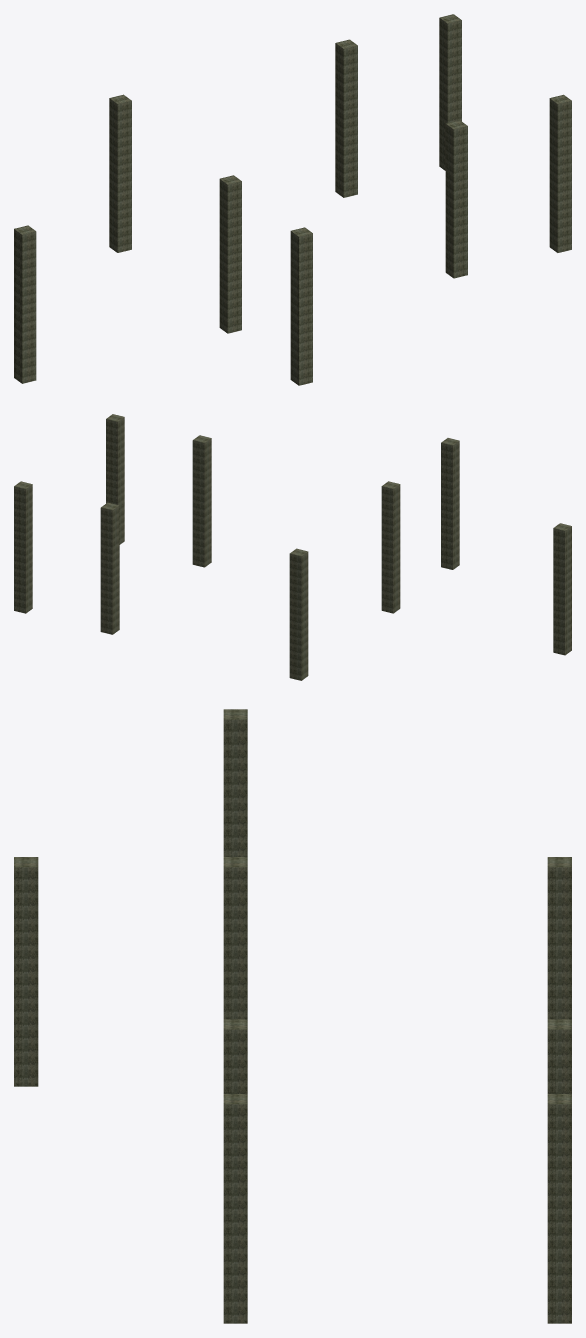
The picture shows the model from 3 angles, top to bottom: view 1: azimuth 30°, elevation 25°; view 2: azimuth 150°, elevation 25°; view 3: azimuth 270°, elevation 25°; orthographic projection. The views are drawn at different scales.
Visible parts, largest first — view 1: Columns_Rectangular 300 x 300 mm [645681]001, Columns_Rectangular 300 x 300 mm [646032]001, Columns_Rectangular 300 x 300 mm [645483]001, Columns_Rectangular 300 x 300 mm [645923]001, Columns_Rectangular 300 x 300 mm [646252]001, Columns_Rectangular 300 x 300 mm [645400]001, Columns_Rectangular 300 x 300 mm [646169]001, Columns_Rectangular 300 x 300 mm [645610]001; view 2: Columns_Rectangular 300 x 300 mm [645400]001, Columns_Rectangular 300 x 300 mm [645923]001, Columns_Rectangular 300 x 300 mm [646032]001, Columns_Rectangular 300 x 300 mm [645483]001, Columns_Rectangular 300 x 300 mm [645610]001, Columns_Rectangular 300 x 300 mm [645681]001, Columns_Rectangular 300 x 300 mm [646252]001, Columns_Rectangular 300 x 300 mm [646169]001; view 3: Columns_Rectangular 300 x 300 mm [645610]001, Columns_Rectangular 300 x 300 mm [646169]001, Columns_Rectangular 300 x 300 mm [646252]001, Columns_Rectangular 300 x 300 mm [645400]001, Columns_Rectangular 300 x 300 mm [645923]001, Columns_Rectangular 300 x 300 mm [645681]001, Columns_Rectangular 300 x 300 mm [645483]001, Columns_Rectangular 300 x 300 mm [646032]001.
Boxes of the visible parts, x1,y1,x2,y2 form: Columns_Rectangular 300 x 300 mm [645681]001: (14, 225, 36, 383); Columns_Rectangular 300 x 300 mm [646032]001: (445, 120, 467, 278); Columns_Rectangular 300 x 300 mm [645483]001: (335, 39, 357, 197); Columns_Rectangular 300 x 300 mm [645923]001: (219, 175, 241, 333); Columns_Rectangular 300 x 300 mm [646252]001: (290, 227, 312, 385); Columns_Rectangular 300 x 300 mm [645400]001: (109, 94, 131, 252); Columns_Rectangular 300 x 300 mm [646169]001: (549, 94, 571, 252); Columns_Rectangular 300 x 300 mm [645610]001: (439, 14, 461, 170); Columns_Rectangular 300 x 300 mm [645400]001: (289, 548, 308, 680); Columns_Rectangular 300 x 300 mm [645923]001: (381, 481, 400, 613); Columns_Rectangular 300 x 300 mm [646032]001: (192, 435, 211, 567); Columns_Rectangular 300 x 300 mm [645483]001: (100, 502, 119, 634); Columns_Rectangular 300 x 300 mm [645610]001: (14, 481, 32, 613); Columns_Rectangular 300 x 300 mm [645681]001: (553, 523, 571, 655); Columns_Rectangular 300 x 300 mm [646252]001: (441, 438, 459, 569); Columns_Rectangular 300 x 300 mm [646169]001: (106, 414, 124, 544); Columns_Rectangular 300 x 300 mm [645610]001: (547, 1094, 571, 1323); Columns_Rectangular 300 x 300 mm [646169]001: (223, 1094, 247, 1323); Columns_Rectangular 300 x 300 mm [646252]001: (14, 857, 38, 1086); Columns_Rectangular 300 x 300 mm [645400]001: (547, 857, 571, 1019); Columns_Rectangular 300 x 300 mm [645923]001: (223, 857, 247, 1019); Columns_Rectangular 300 x 300 mm [645681]001: (223, 709, 247, 856); Columns_Rectangular 300 x 300 mm [645483]001: (547, 1019, 571, 1093); Columns_Rectangular 300 x 300 mm [646032]001: (223, 1019, 247, 1093).
Bounding box in the file's own units: 11.58 × 3 × 6.91.
1 material, 1 textured.
